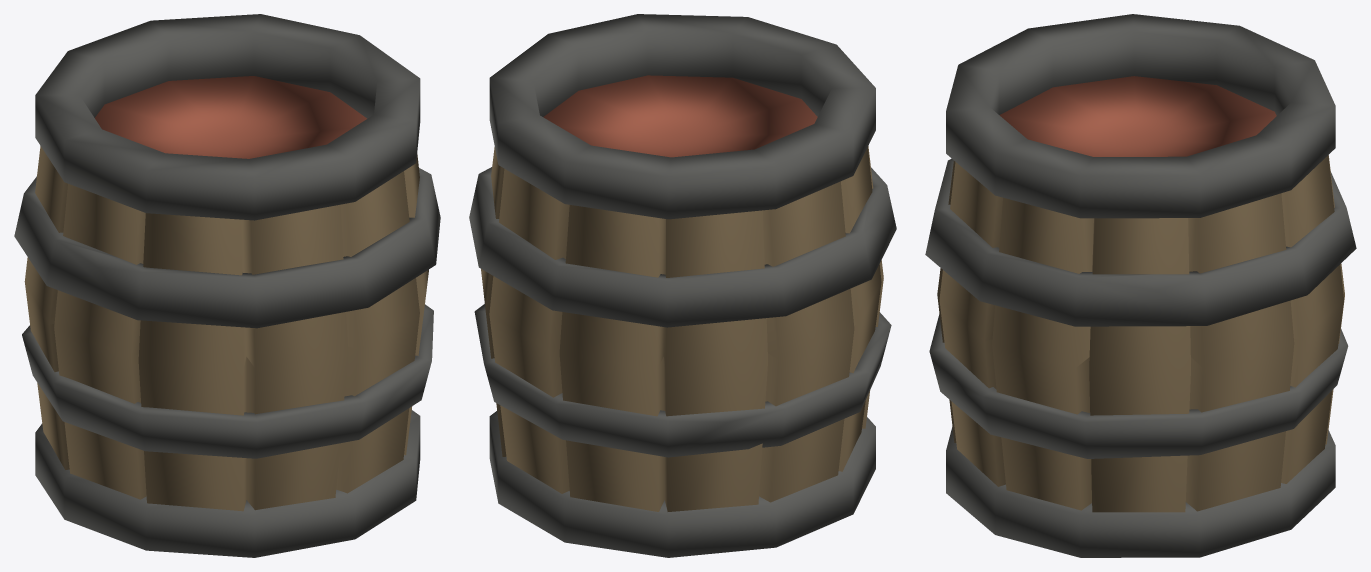
The model's file is rpgpp_ag_barrel_02d.fbx.
3 renders of one model, left to right at view 1: azimuth 30°, elevation 25°; view 2: azimuth 150°, elevation 25°; view 3: azimuth 270°, elevation 25°, orthographic.
Parts seen in each view (by area): view 1: rpgpp_ag_barrel_02d; view 2: rpgpp_ag_barrel_02d; view 3: rpgpp_ag_barrel_02d.
Part boxes in pixels (<box>): rpgpp_ag_barrel_02d: <box>14,14,440,557</box>; rpgpp_ag_barrel_02d: <box>469,14,896,557</box>; rpgpp_ag_barrel_02d: <box>925,14,1356,557</box>.
Bounding box in the file's own units: 0.9454 × 0.9454 × 0.9603.
